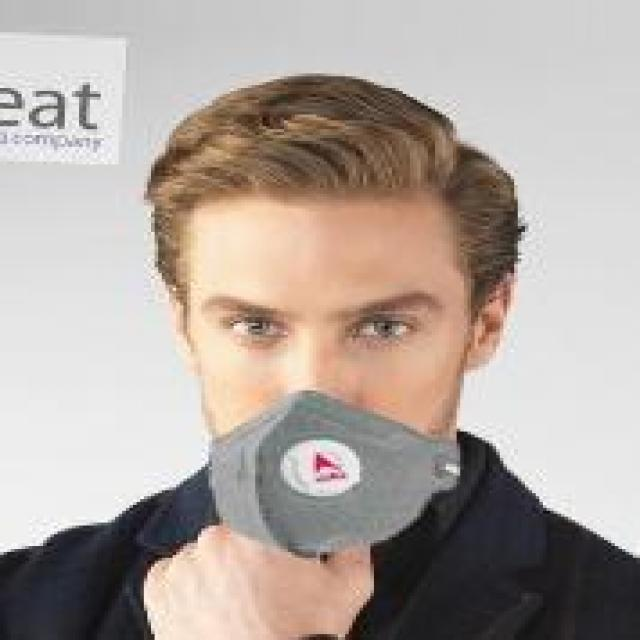mask: (140, 74, 518, 543)
